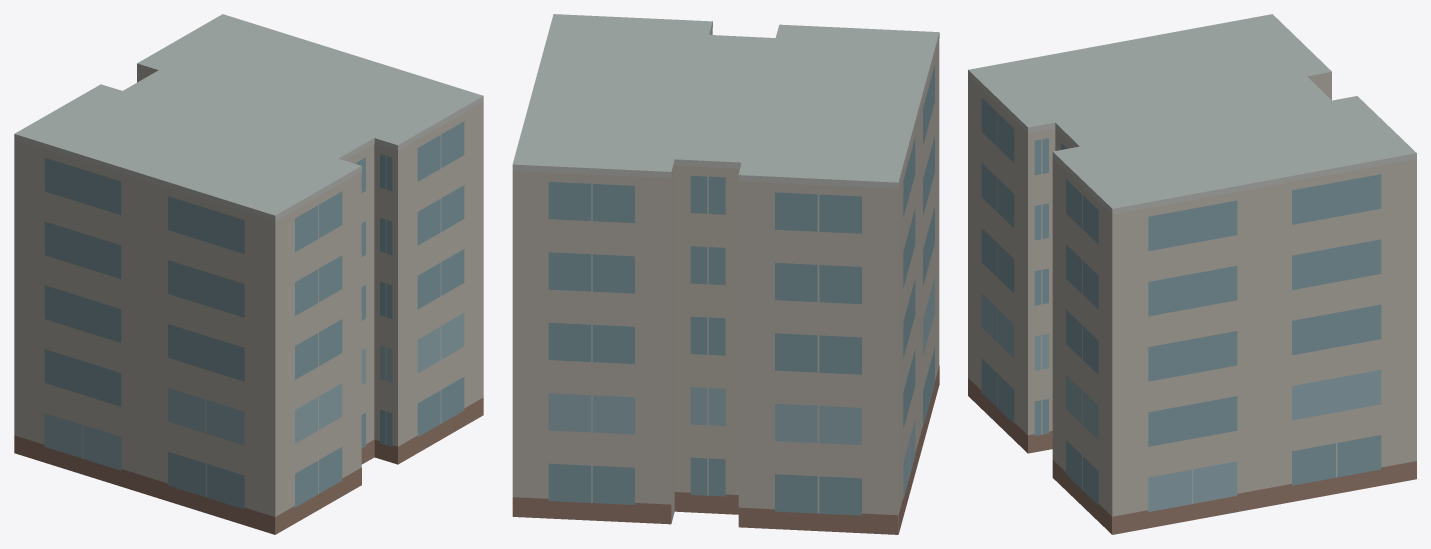
Rendered from survey-upis-32958879.glb.
3 views of the same model, side by side, from view 1: azimuth 30°, elevation 25°; view 2: azimuth 150°, elevation 25°; view 3: azimuth 270°, elevation 25° (orthographic). The views are drawn at different scales.
Visible parts, largest first — view 1: survey-upis-32958879.tmp; view 2: survey-upis-32958879.tmp; view 3: survey-upis-32958879.tmp.
Part boxes in pixels (x1,y1,x2,y2): survey-upis-32958879.tmp: (14,14,483,534); survey-upis-32958879.tmp: (512,14,939,534); survey-upis-32958879.tmp: (968,14,1416,534).
Bounding box in the file's own units: 17.7 × 13.8 × 17.22.
